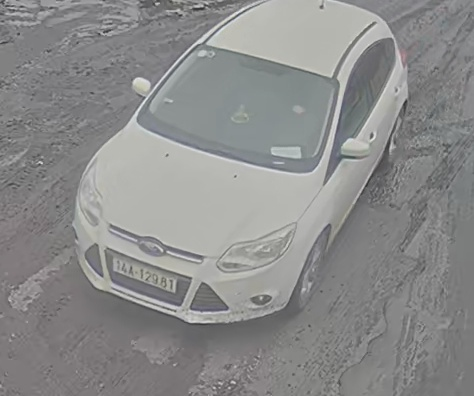vehicle plate: (103, 245, 178, 292)
